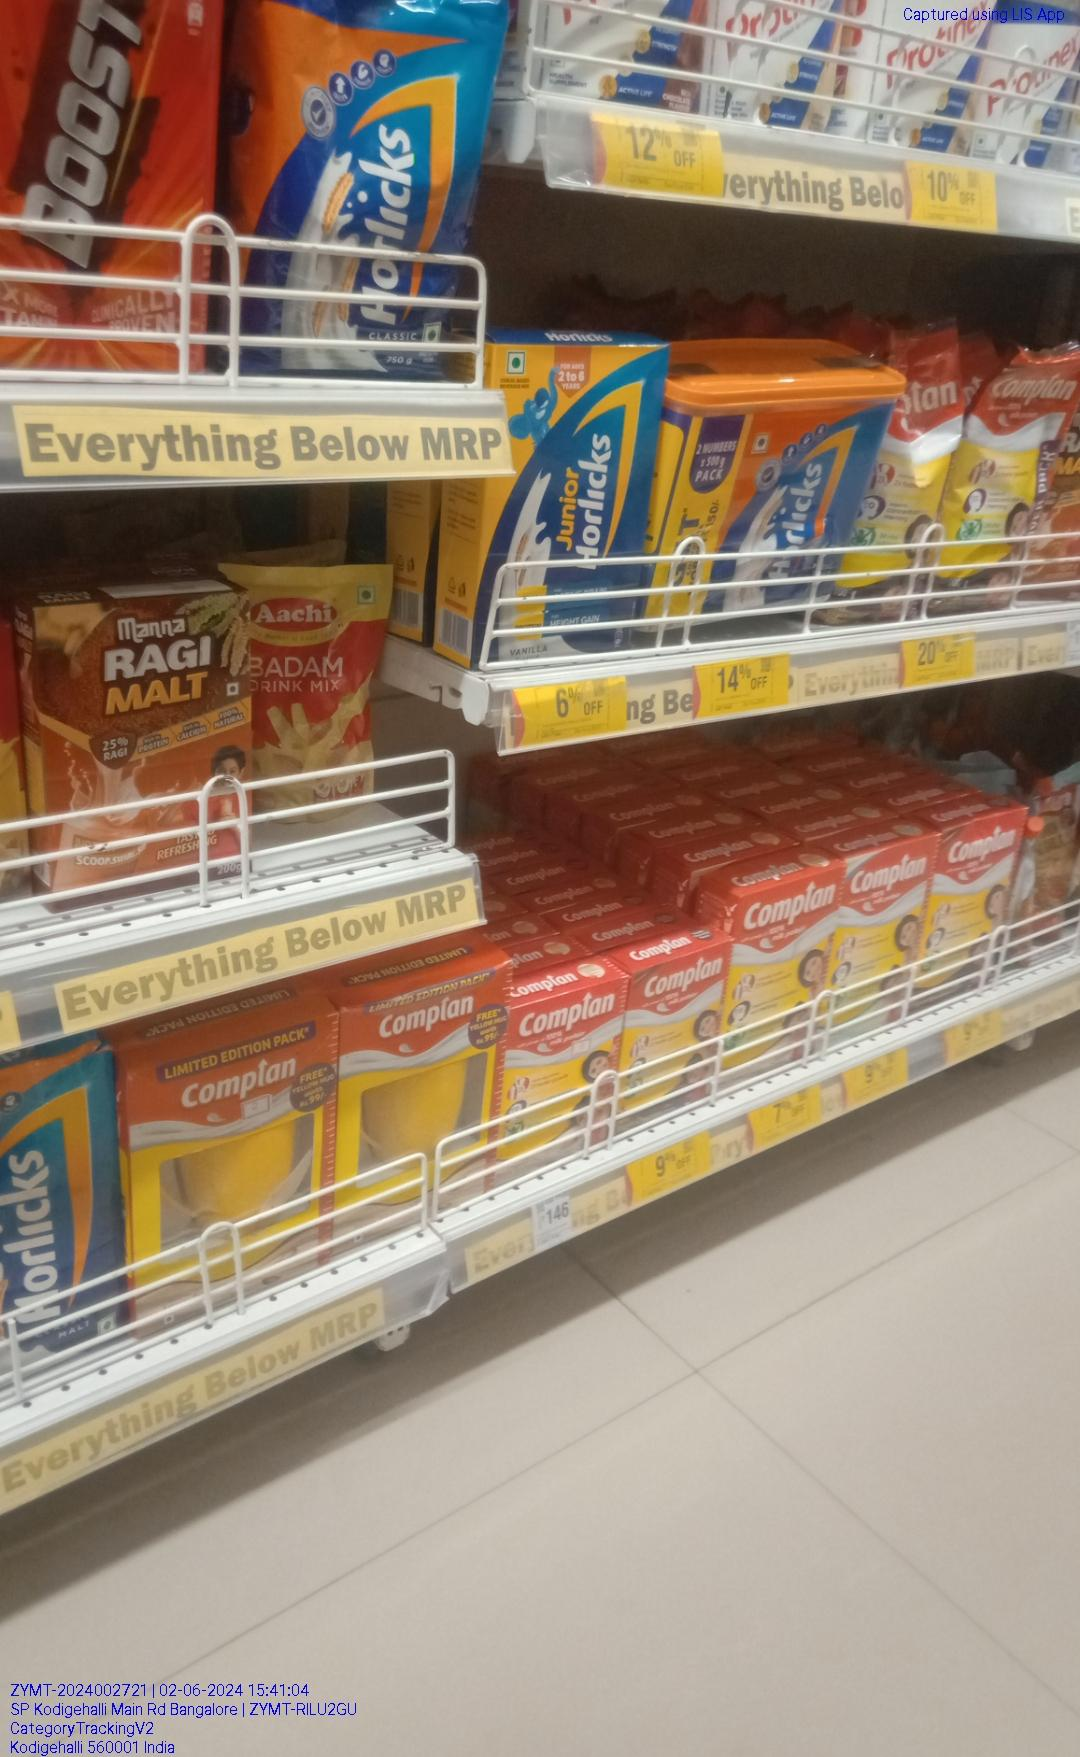HORLICK_MALT_1_KG_CONTAINER: (664, 389, 860, 609)
